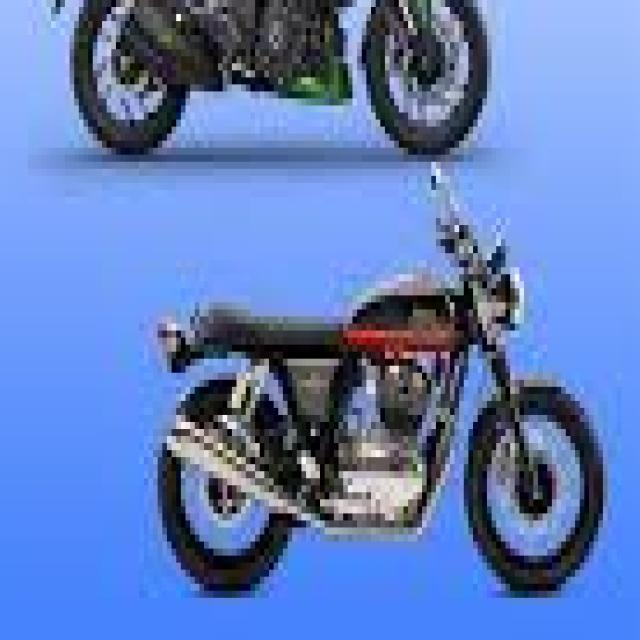bike: (153, 169, 608, 605), (56, 0, 492, 162)
